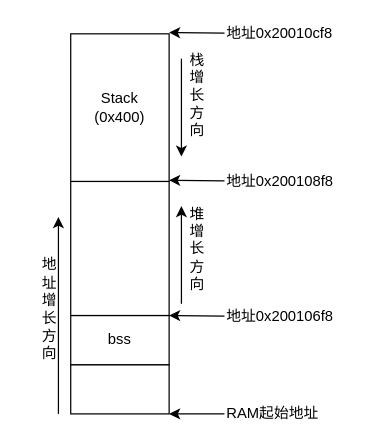
Image size: 368x446. Some labels were removed from this diagram. Each missing label, with the centre of its shape:
data: [119,388]
Heap (0x200): [119,247]
